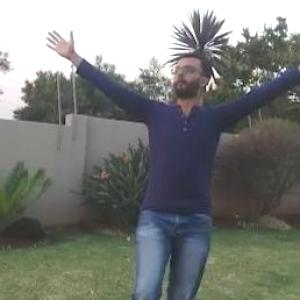takeoff: (41, 36, 299, 299)
